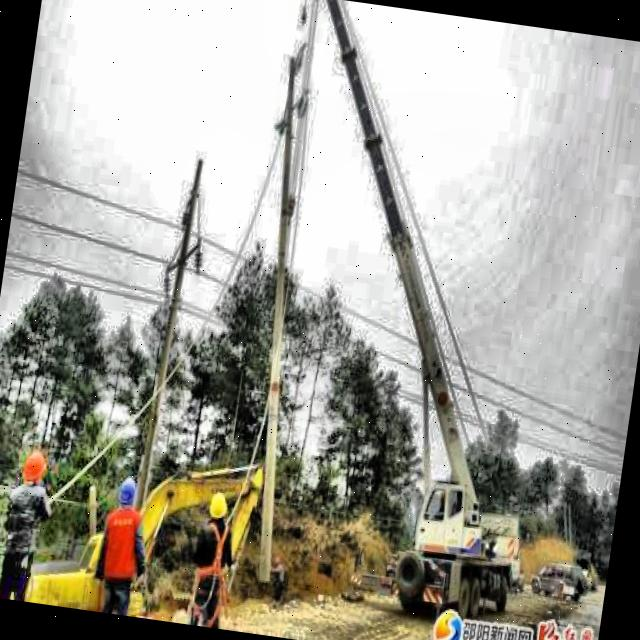helmet: (18, 448, 51, 490), (207, 486, 234, 525), (115, 471, 142, 508)
